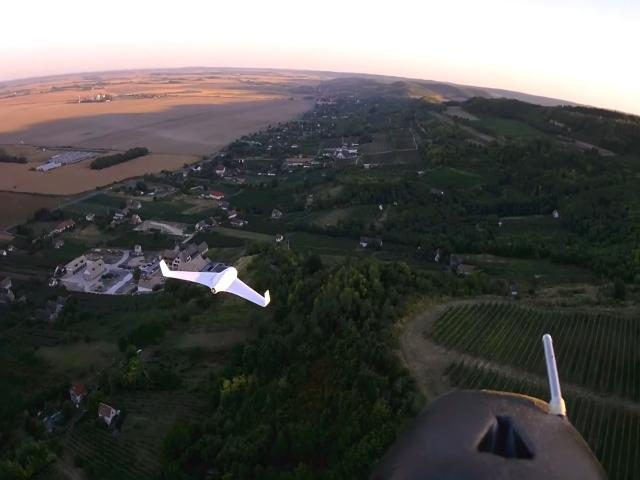plane: (159, 258, 270, 308)
